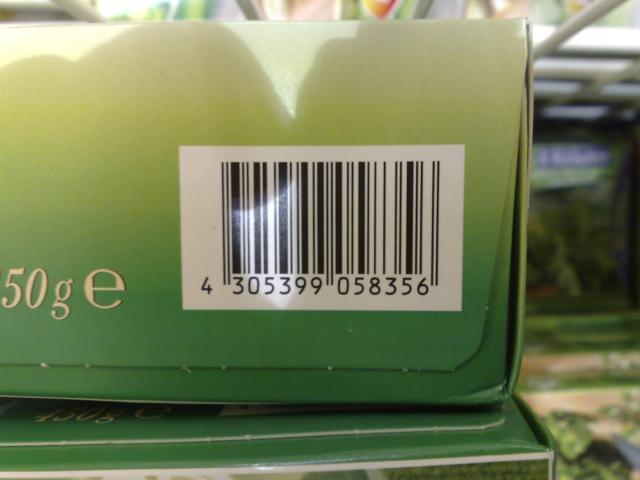Barcode: (178, 143, 463, 311)
